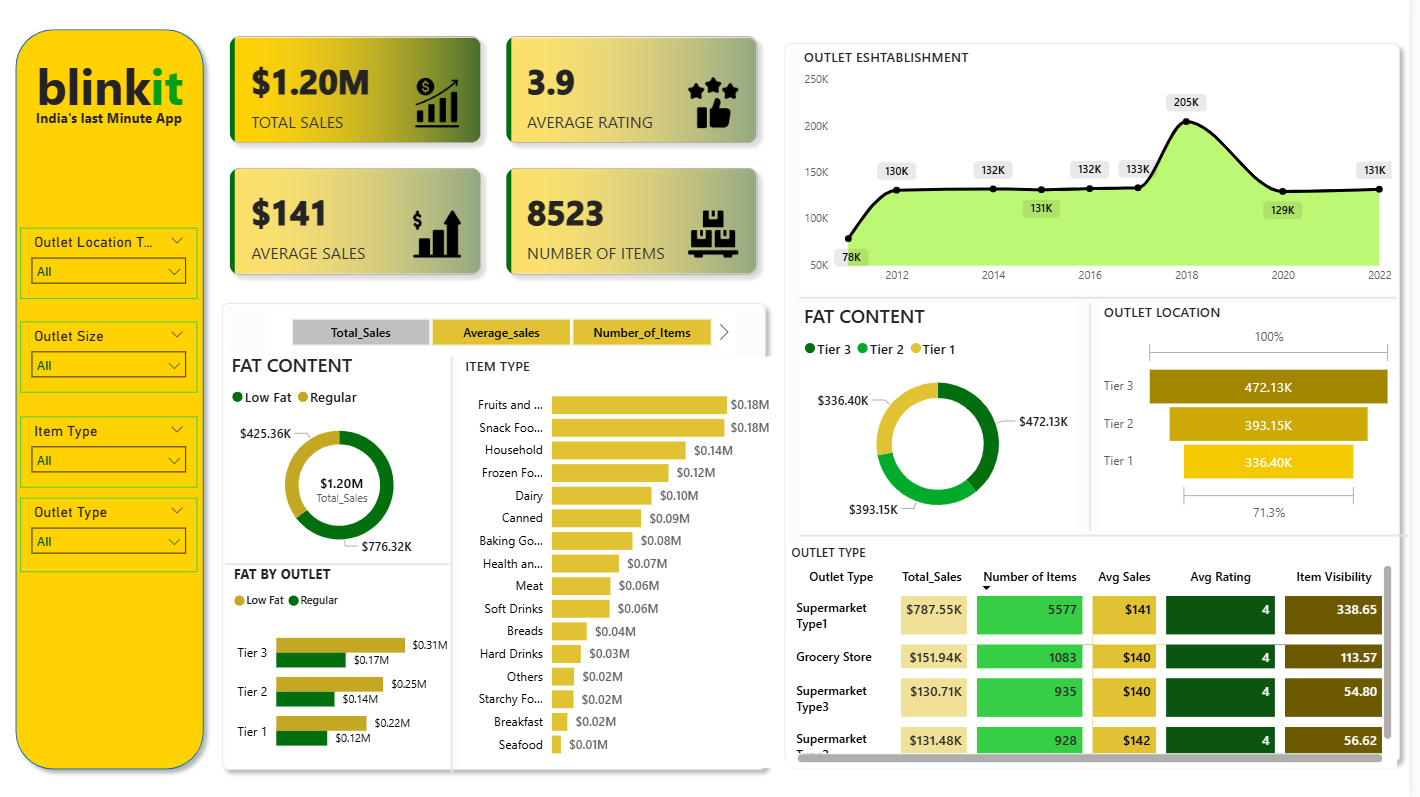

What the dashboard file says about the page in this screenshot:
{"tool":"powerbi","page":{"name":"Page 1","canvas":[1400,800],"ordinal":0},"visuals":[{"type":"shape","box":[12,25.5,204.1,750.4],"z":0},{"type":"textbox","box":[25.9,109.1,175.9,32.7],"z":1000},{"type":"cardVisual","fields":{"Data":["BlinkIT Grocery Data.Total_Sales","BlinkIT Grocery Data.Average_Rating","BlinkIT Grocery Data.Average_sales","BlinkIT Grocery Data.Number_of_Items"]},"box":[216.2,25,556.2,271.2],"z":2000},{"type":"shape","box":[216.2,296.2,556.2,480],"z":3000},{"type":"donutChart","title":"FAT CONTENT","fields":{"Y":["BlinkIT Grocery Data.Total_Sales"],"Category":["BlinkIT Grocery Data.Item Fat Content"]},"box":[229.6,354.2,223.6,210.1],"z":4000},{"type":"slicer","fields":{"Values":["Parameter.Parameter"]},"box":[268.7,313.7,465.3,40.5],"z":5000},{"type":"cardVisual","fields":{"Data":["BlinkIT Grocery Data.Total_Sales"]},"box":[306.2,459.3,75,61.5],"z":6000},{"type":"clusteredBarChart","title":"FAT BY OUTLET","fields":{"Y":["BlinkIT Grocery Data.Total_Sales"],"Series":["BlinkIT Grocery Data.Item Fat Content"],"Category":["BlinkIT Grocery Data.Outlet Location Type"]},"box":[232.5,564.5,221.4,201.5],"z":7000},{"type":"barChart","title":"ITEM TYPE","fields":{"Y":["BlinkIT Grocery Data.Total_Sales"],"Category":["BlinkIT Grocery Data.Item Type"]},"box":[461.4,358.6,311.4,407.1],"z":8000},{"type":"shape","box":[229,554.9,223.6,17.7],"z":9000},{"type":"shape","box":[444.4,358.3,17.8,411.7],"z":10000},{"type":"shape","box":[772.9,40,627.1,730],"z":11000},{"type":"lineChart","title":"OUTLET ESHTABLISHMENT","fields":{"Category":["BlinkIT Grocery Data.Outlet Establishment Year"],"Y":["Sum(BlinkIT Grocery Data.Sales)"]},"box":[797.1,52.9,591.4,242.9],"z":12000},{"type":"shape","box":[797.1,295.7,591.4,10],"z":13000},{"type":"donutChart","title":"FAT CONTENT","fields":{"Y":["BlinkIT Grocery Data.Total_Sales"],"Category":["BlinkIT Grocery Data.Outlet Location Type"]},"box":[797.1,305.7,275,225],"z":14000},{"type":"shape","box":[1075.7,305.7,17.1,225.7],"z":15000},{"type":"shape","box":[797.1,528.6,602.9,15.7],"z":16000},{"type":"funnel","title":"OUTLET LOCATION","fields":{"Y":["Sum(BlinkIT Grocery Data.Sales)"],"Category":["BlinkIT Grocery Data.Outlet Location Type"]},"box":[1092.9,305.7,295.7,222.9],"z":17000},{"type":"pivotTable","title":"OUTLET TYPE","fields":{"Values":["BlinkIT Grocery Data.Total_Sales","BlinkIT Grocery Data.Number_of_Items","BlinkIT Grocery Data.Average_sales","BlinkIT Grocery Data.Average_Rating","Sum(BlinkIT Grocery Data.Item Visibility)"],"Rows":["BlinkIT Grocery Data.Outlet Type"]},"box":[784.3,544.3,604.3,221.4],"z":18000},{"type":"slicer","fields":{"Values":["BlinkIT Grocery Data.Outlet Location Type"]},"box":[26.2,231.2,175,70],"z":19000},{"type":"slicer","fields":{"Values":["BlinkIT Grocery Data.Outlet Size"]},"box":[26.2,323.8,175,70],"z":20000},{"type":"slicer","fields":{"Values":["BlinkIT Grocery Data.Item Type"]},"box":[26.2,417.5,175,70],"z":21000},{"type":"slicer","fields":{"Values":["BlinkIT Grocery Data.Outlet Type"]},"box":[26.2,498.8,175,73.8],"z":22000},{"type":"textbox","box":[12.3,53.2,204.5,75],"z":23000}]}

Visuals, with their boxes in screenshot pixels (x1, y1, x2, y2), scaled from the page's 1400x800 canvas onto the 1420x797 screenshot:
shape: x1=12 y1=25 x2=219 y2=773
textbox: x1=26 y1=109 x2=205 y2=141
cardVisual - BlinkIT Grocery Data.Total_Sales x BlinkIT Grocery Data.Average_Rating: x1=219 y1=25 x2=783 y2=295
shape: x1=219 y1=295 x2=783 y2=773
"FAT CONTENT" donutChart: x1=233 y1=353 x2=460 y2=562
slicer - Parameter.Parameter: x1=273 y1=313 x2=744 y2=353
cardVisual - BlinkIT Grocery Data.Total_Sales: x1=311 y1=458 x2=387 y2=519
"FAT BY OUTLET" clusteredBarChart: x1=236 y1=562 x2=460 y2=763
"ITEM TYPE" barChart: x1=468 y1=357 x2=784 y2=763
shape: x1=232 y1=553 x2=459 y2=570
shape: x1=451 y1=357 x2=469 y2=767
shape: x1=784 y1=40 x2=1419 y2=767
"OUTLET ESHTABLISHMENT" lineChart: x1=808 y1=53 x2=1408 y2=295
shape: x1=808 y1=295 x2=1408 y2=305
"FAT CONTENT" donutChart: x1=808 y1=305 x2=1087 y2=529
shape: x1=1091 y1=305 x2=1108 y2=529
shape: x1=808 y1=527 x2=1419 y2=542
"OUTLET LOCATION" funnel: x1=1109 y1=305 x2=1408 y2=527
"OUTLET TYPE" pivotTable: x1=796 y1=542 x2=1408 y2=763
slicer - BlinkIT Grocery Data.Outlet Location Type: x1=27 y1=230 x2=204 y2=300
slicer - BlinkIT Grocery Data.Outlet Size: x1=27 y1=323 x2=204 y2=392
slicer - BlinkIT Grocery Data.Item Type: x1=27 y1=416 x2=204 y2=486
slicer - BlinkIT Grocery Data.Outlet Type: x1=27 y1=497 x2=204 y2=570
textbox: x1=12 y1=53 x2=220 y2=128
